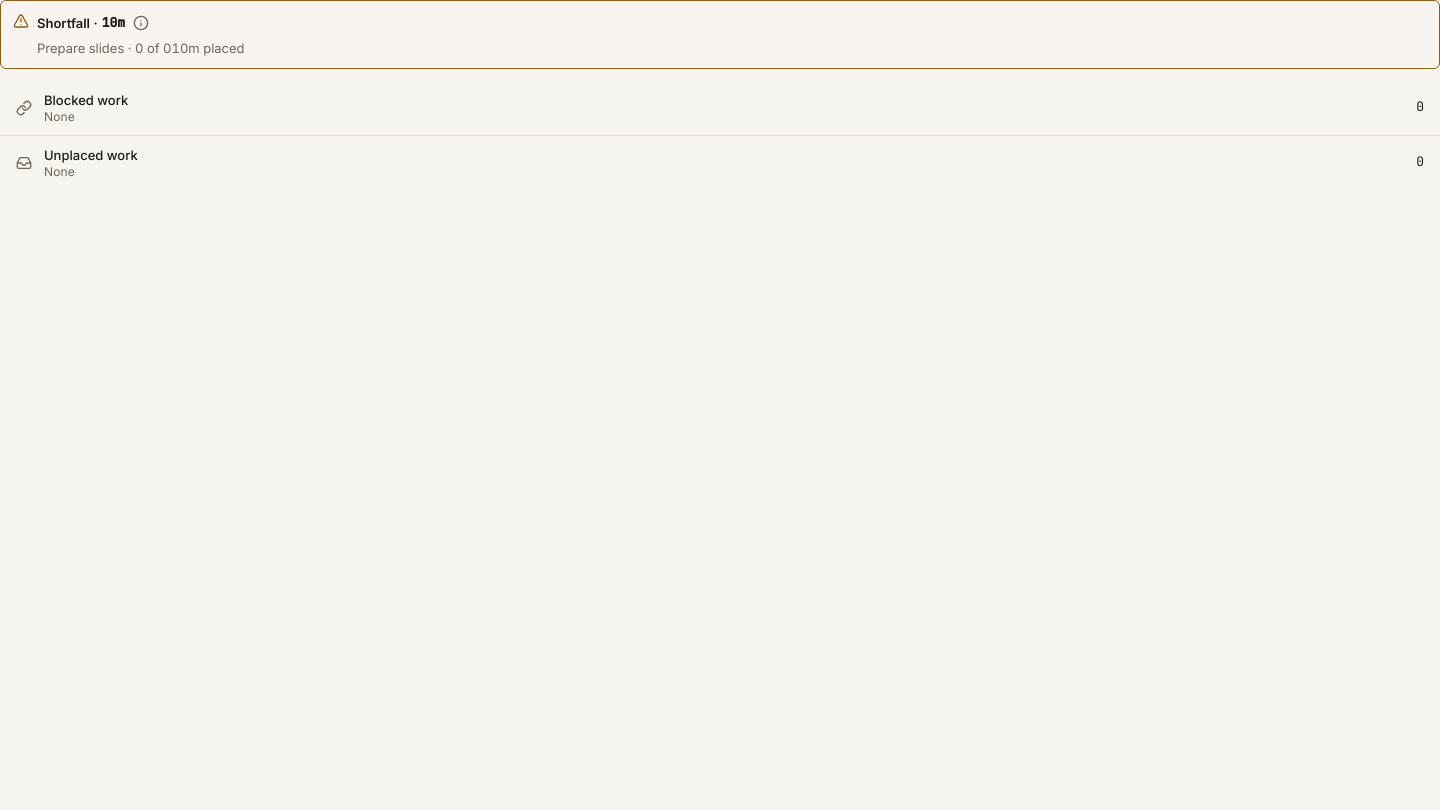
PlanHealth › explains the shortfall without promising to move work to another day
Click the button named "About this shortfall" at (141, 23), box [129,11,153,35]
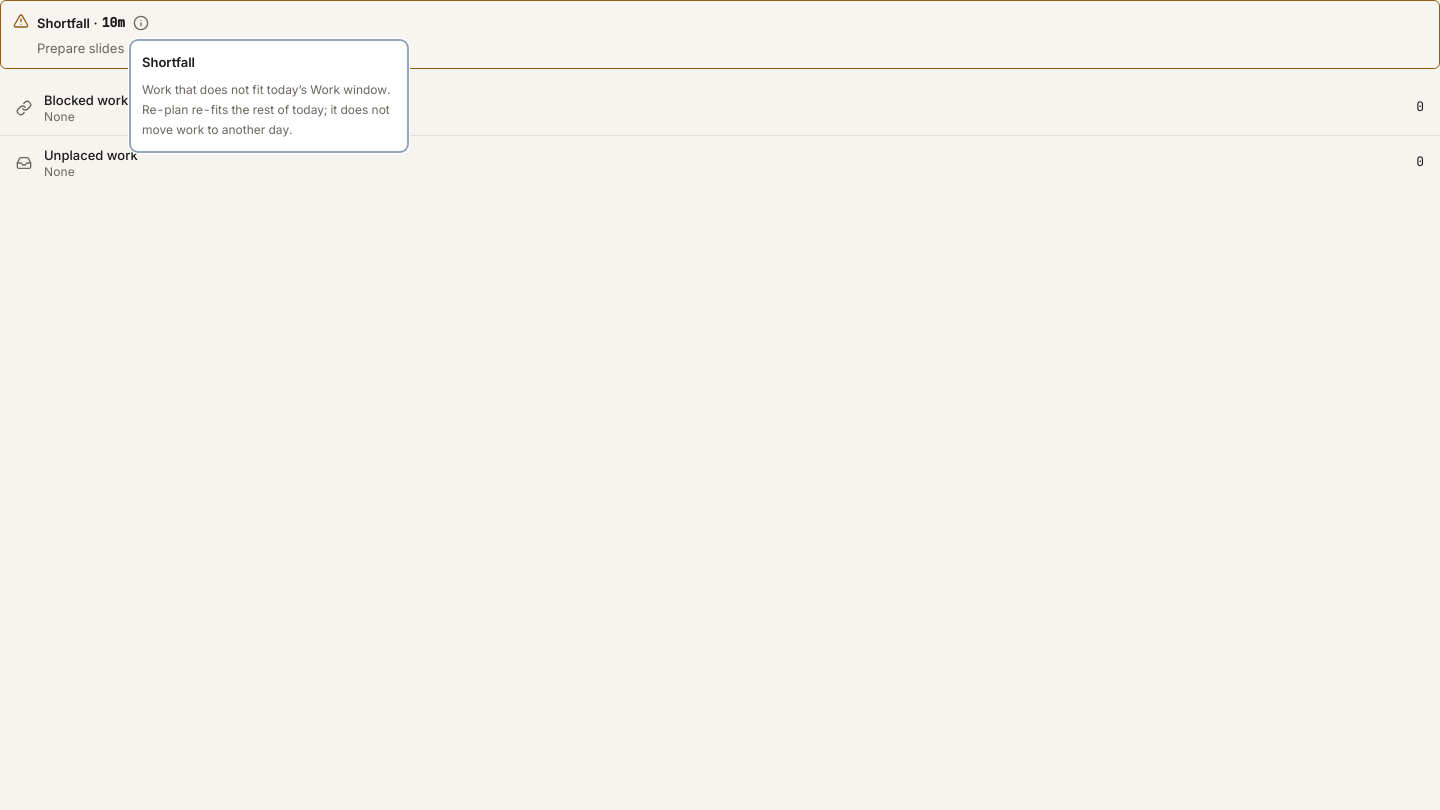
Result: the text "does not fit today" shows "Re-plan re-fits the rest of today" at [142,82,390,137]
